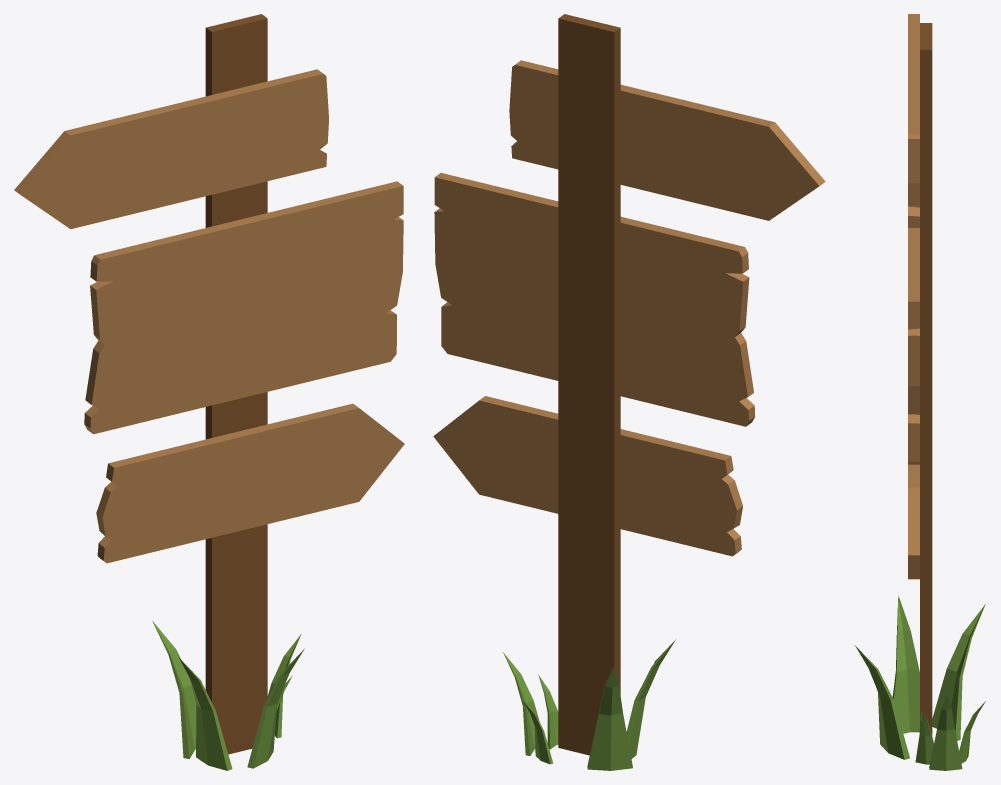
Rendered from Wooden Sign-p4TB5SdPsG.glb.
3 renders of one model, left to right at view 1: azimuth 30°, elevation 25°; view 2: azimuth 150°, elevation 25°; view 3: azimuth 270°, elevation 25°, orthographic. The views are drawn at different scales.
Parts seen in each view (by area): view 1: Sign5; view 2: Sign5; view 3: Sign5.
Part boxes in pixels (x1,y1,x2,y2): Sign5: (14,14,404,770); Sign5: (433,14,825,770); Sign5: (855,14,985,770).
Size of the model in its own units: 1.1 by 1.98 by 0.3337.
